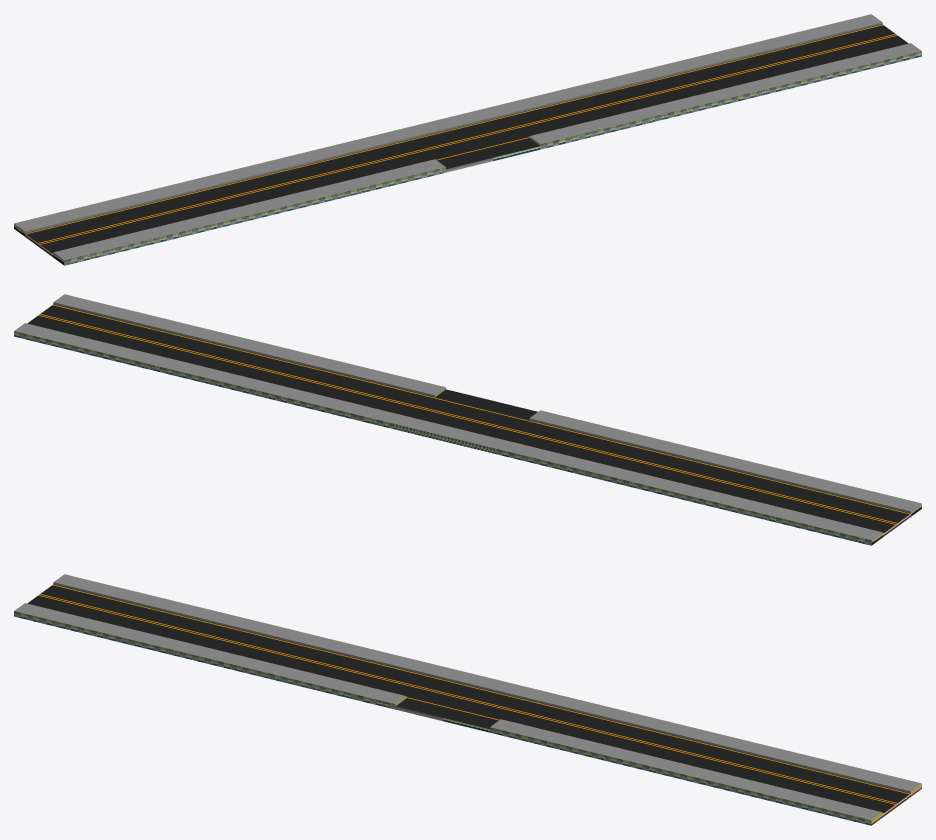
File: calle.fbx
3 views of the same model, one above another, from view 1: azimuth 30°, elevation 25°; view 2: azimuth 150°, elevation 25°; view 3: azimuth 330°, elevation 25° (orthographic).
Parts seen in each view (by area): view 1: Calle.001, Calle, Calle.002, Calle.003; view 2: Calle.001, Calle, Calle.003, Calle.002; view 3: Calle, Calle.001, Calle.002, Calle.003.
Part boxes in pixels (<box>): Calle.001: <box>14,132,445,265</box>; Calle: <box>490,14,921,149</box>; Calle.002: <box>418,127,540,173</box>; Calle.003: <box>389,107,517,151</box>; Calle.001: <box>496,410,921,545</box>; Calle: <box>14,294,445,429</box>; Calle.003: <box>394,407,520,454</box>; Calle.002: <box>418,389,537,431</box>; Calle: <box>490,691,921,825</box>; Calle.001: <box>14,574,445,708</box>; Calle.002: <box>392,687,516,732</box>; Calle.003: <box>416,665,542,710</box>.
Bounding box in the file's own units: 13482 × 81.92 × 1375.
4 materials, 4 textured.
